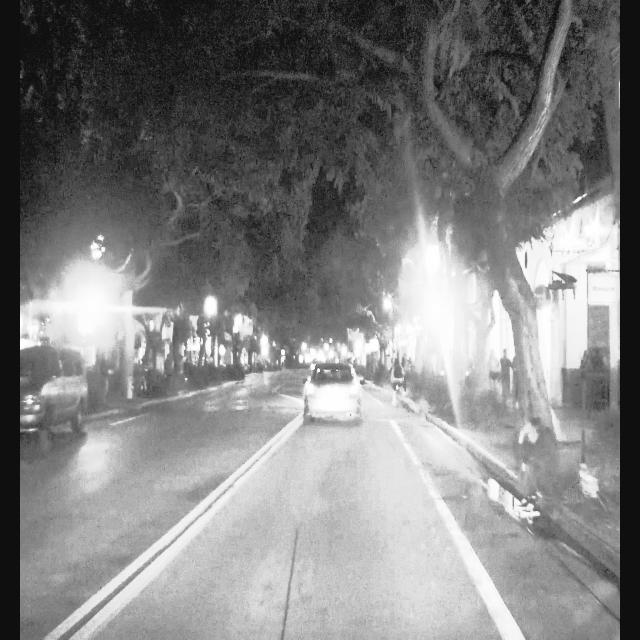Tree: (470, 0, 573, 499)
